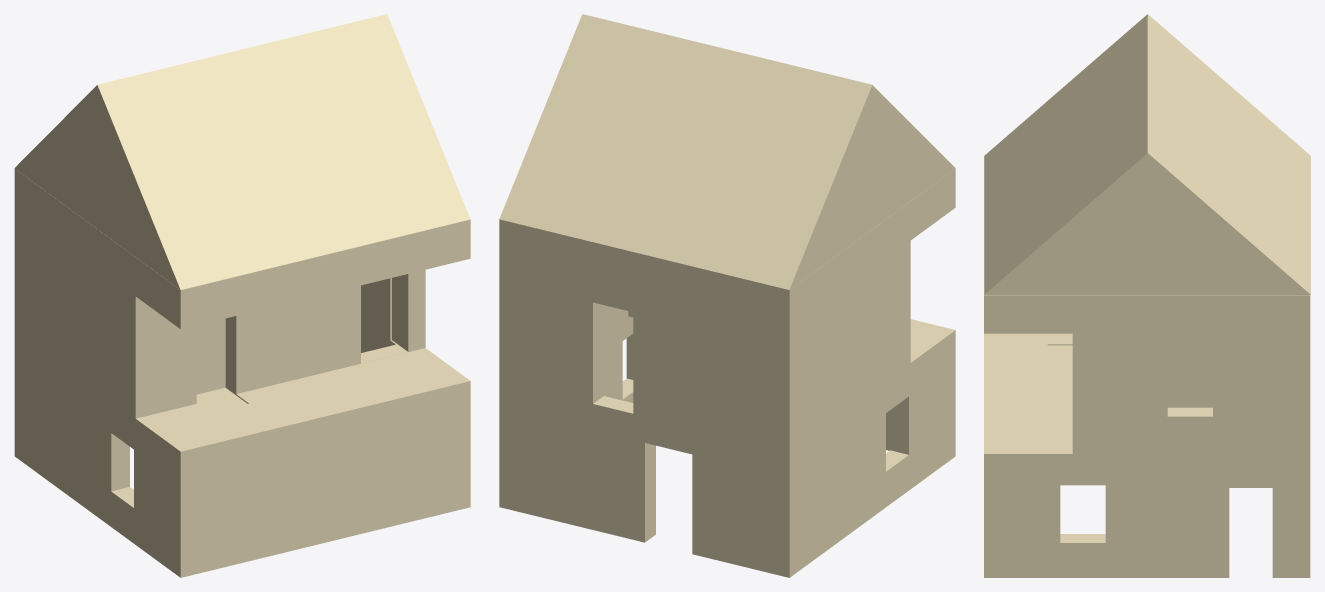
The model's file is external walls kitchen area.fbx.
3 renders of one model, left to right at view 1: azimuth 30°, elevation 25°; view 2: azimuth 150°, elevation 25°; view 3: azimuth 270°, elevation 25°, orthographic.
Parts seen in each view (by area): view 1: muri, sottotetto; view 2: muri, sottotetto; view 3: muri, sottotetto.
Boxes of the visible parts, x1,y1,x2,y2 form: muri: (14, 169, 470, 577); sottotetto: (14, 14, 469, 289); muri: (499, 168, 955, 577); sottotetto: (499, 14, 955, 289); muri: (984, 156, 1310, 577); sottotetto: (984, 14, 1310, 294).
Size of the model in its own units: 620 by 884 by 616.
